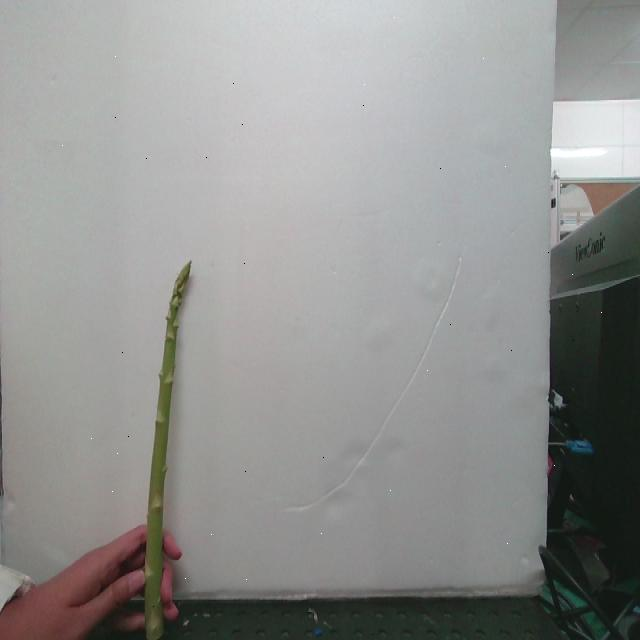aspargus: (144, 263, 192, 640)
